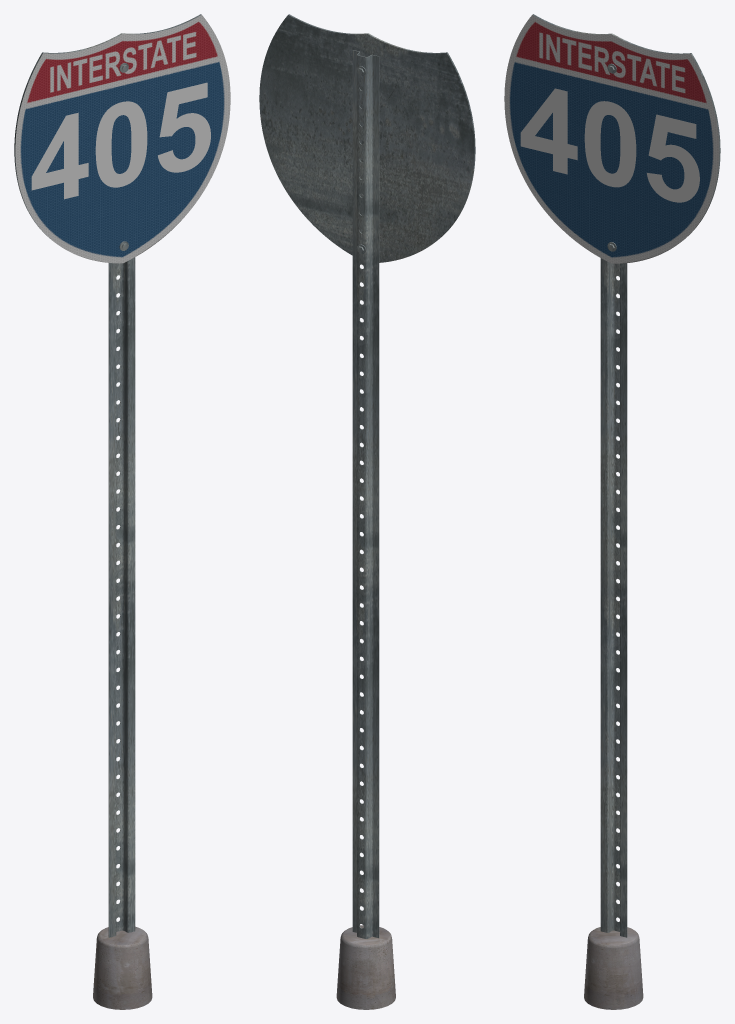
The model's file is interstatesign_nsoc.obj.
3 renders of one model, left to right at view 1: azimuth 30°, elevation 25°; view 2: azimuth 150°, elevation 25°; view 3: azimuth 330°, elevation 25°, orthographic.
Visible parts, largest first — view 1: sign_interstate, sign_text; view 2: sign_interstate; view 3: sign_interstate, sign_text.
Boxes of the visible parts, x1,y1,x2,y2 form: sign_interstate: (14,14,230,1009); sign_text: (31,82,210,199); sign_interstate: (259,14,475,1009); sign_interstate: (504,14,720,1009); sign_text: (520,88,699,202).
Bounding box in the file's own units: 24.38 × 104 × 5.84.
Materials: 4 (3 with a texture image).
